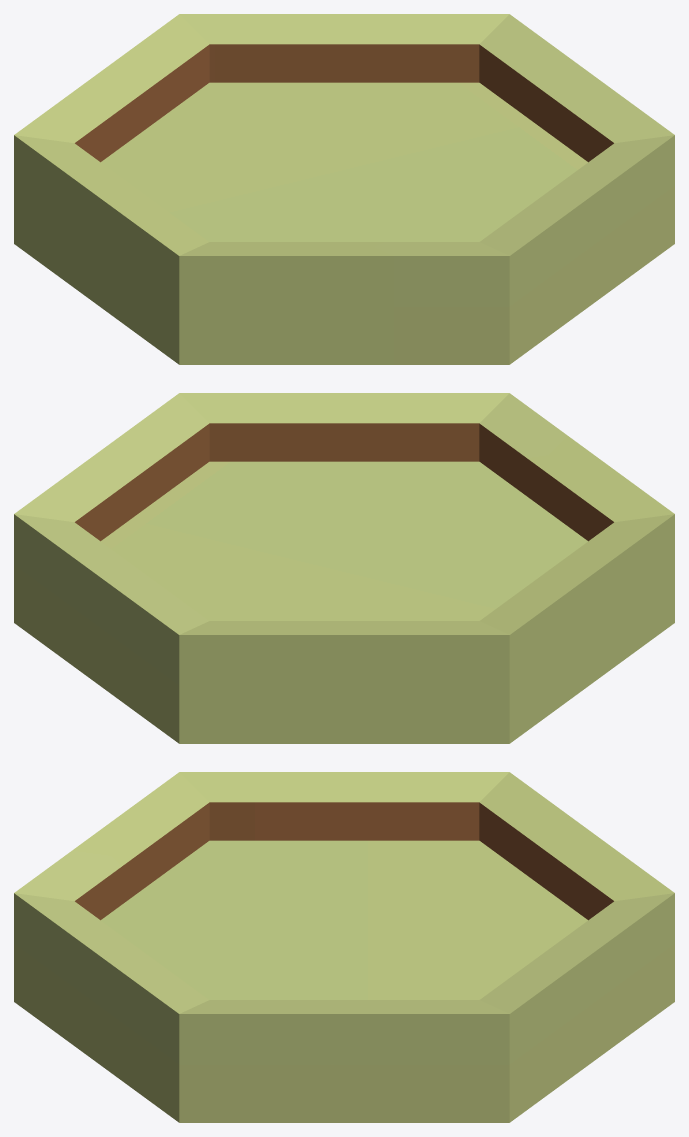
Rendered from Money.glb.
3 views of the same model, one above another, from view 1: azimuth 30°, elevation 25°; view 2: azimuth 150°, elevation 25°; view 3: azimuth 270°, elevation 25° (orthographic).
Parts seen in each view (by area): view 1: Cylinder; view 2: Cylinder; view 3: Cylinder.
Part boxes in pixels (left/top/right/bottom): Cylinder: left=14, top=14, right=674, bottom=364; Cylinder: left=14, top=393, right=674, bottom=743; Cylinder: left=14, top=772, right=674, bottom=1122.
Size of the model in its own units: 1.73 by 0.3632 by 2.
1 material, 1 textured.
